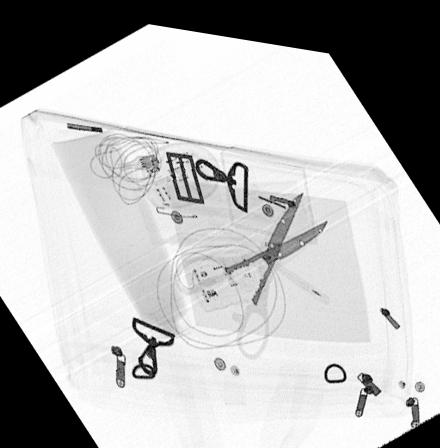Scissors: (173, 180, 328, 353)
